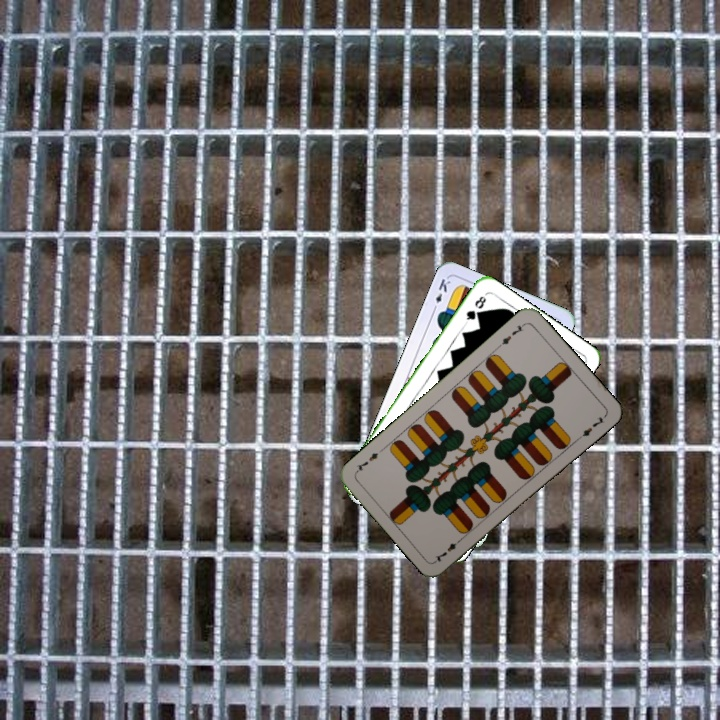E7: (494, 319, 528, 350), (431, 534, 465, 564)
EK: (429, 275, 453, 314)
G8: (461, 292, 489, 326)
